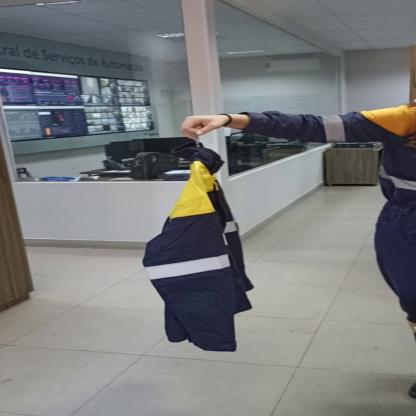C_eletrica: (140, 146, 264, 353)
